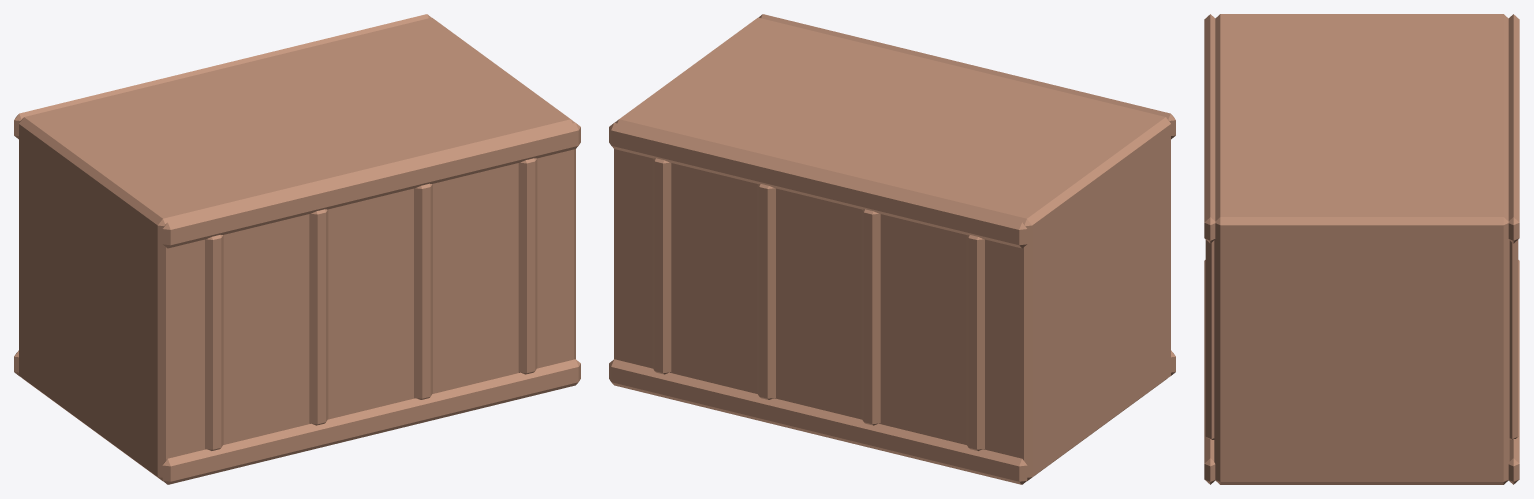
Rendered from SM_Container_2x1p2x1p2.glb.
3 renders of one model, left to right at view 1: azimuth 30°, elevation 25°; view 2: azimuth 150°, elevation 25°; view 3: azimuth 270°, elevation 25°, orthographic.
Visible parts, largest first — view 1: SM_Container_2x1p2x1p2; view 2: SM_Container_2x1p2x1p2; view 3: SM_Container_2x1p2x1p2.
Boxes of the visible parts, <box> form: SM_Container_2x1p2x1p2: <box>14,14,580,484</box>; SM_Container_2x1p2x1p2: <box>609,14,1175,484</box>; SM_Container_2x1p2x1p2: <box>1204,14,1519,484</box>.
Size of the model in its own units: 2 by 1.2 by 1.28.
